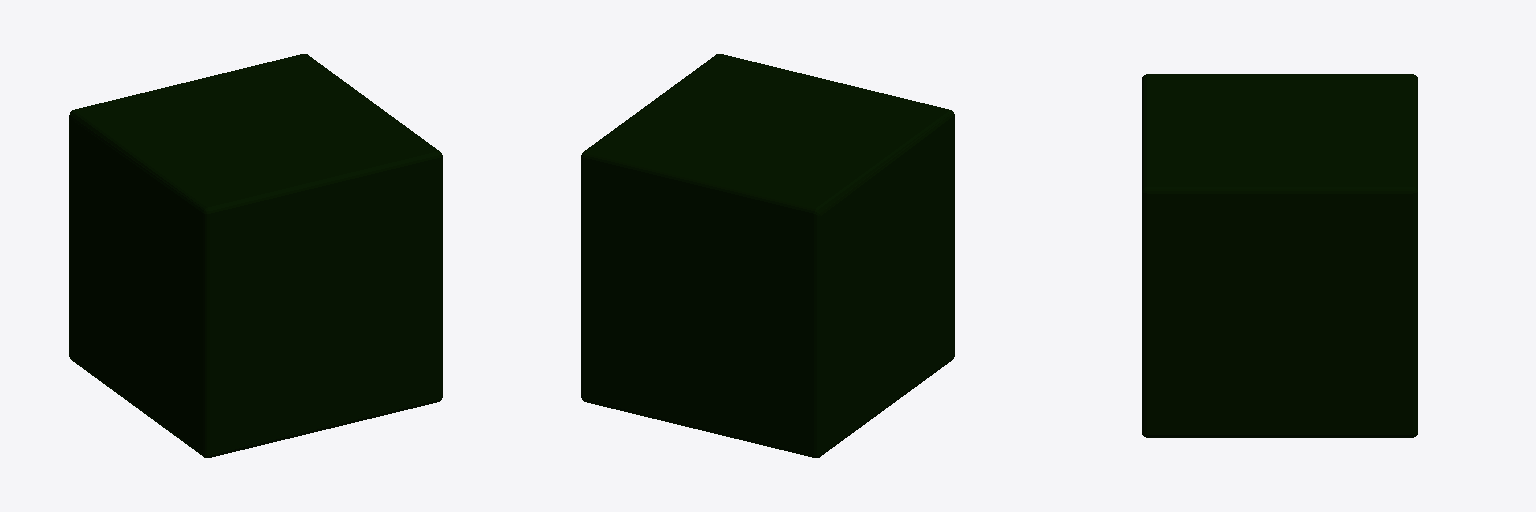
The model's file is grass.obj.
The picture shows the model from 3 angles: view 1: azimuth 30°, elevation 25°; view 2: azimuth 150°, elevation 25°; view 3: azimuth 270°, elevation 25°; orthographic projection.
Visible parts, largest first — view 1: Cube; view 2: Cube; view 3: Cube.
Boxes of the visible parts, box(x1,y1,x2,y2) form: Cube: box(69, 54, 442, 457); Cube: box(581, 54, 954, 457); Cube: box(1142, 74, 1417, 437).
Bounding box in the file's own units: 2 × 2 × 2.